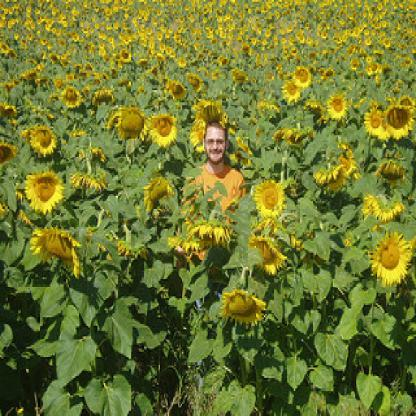SUN FLOWER: (9, 13, 404, 395)
